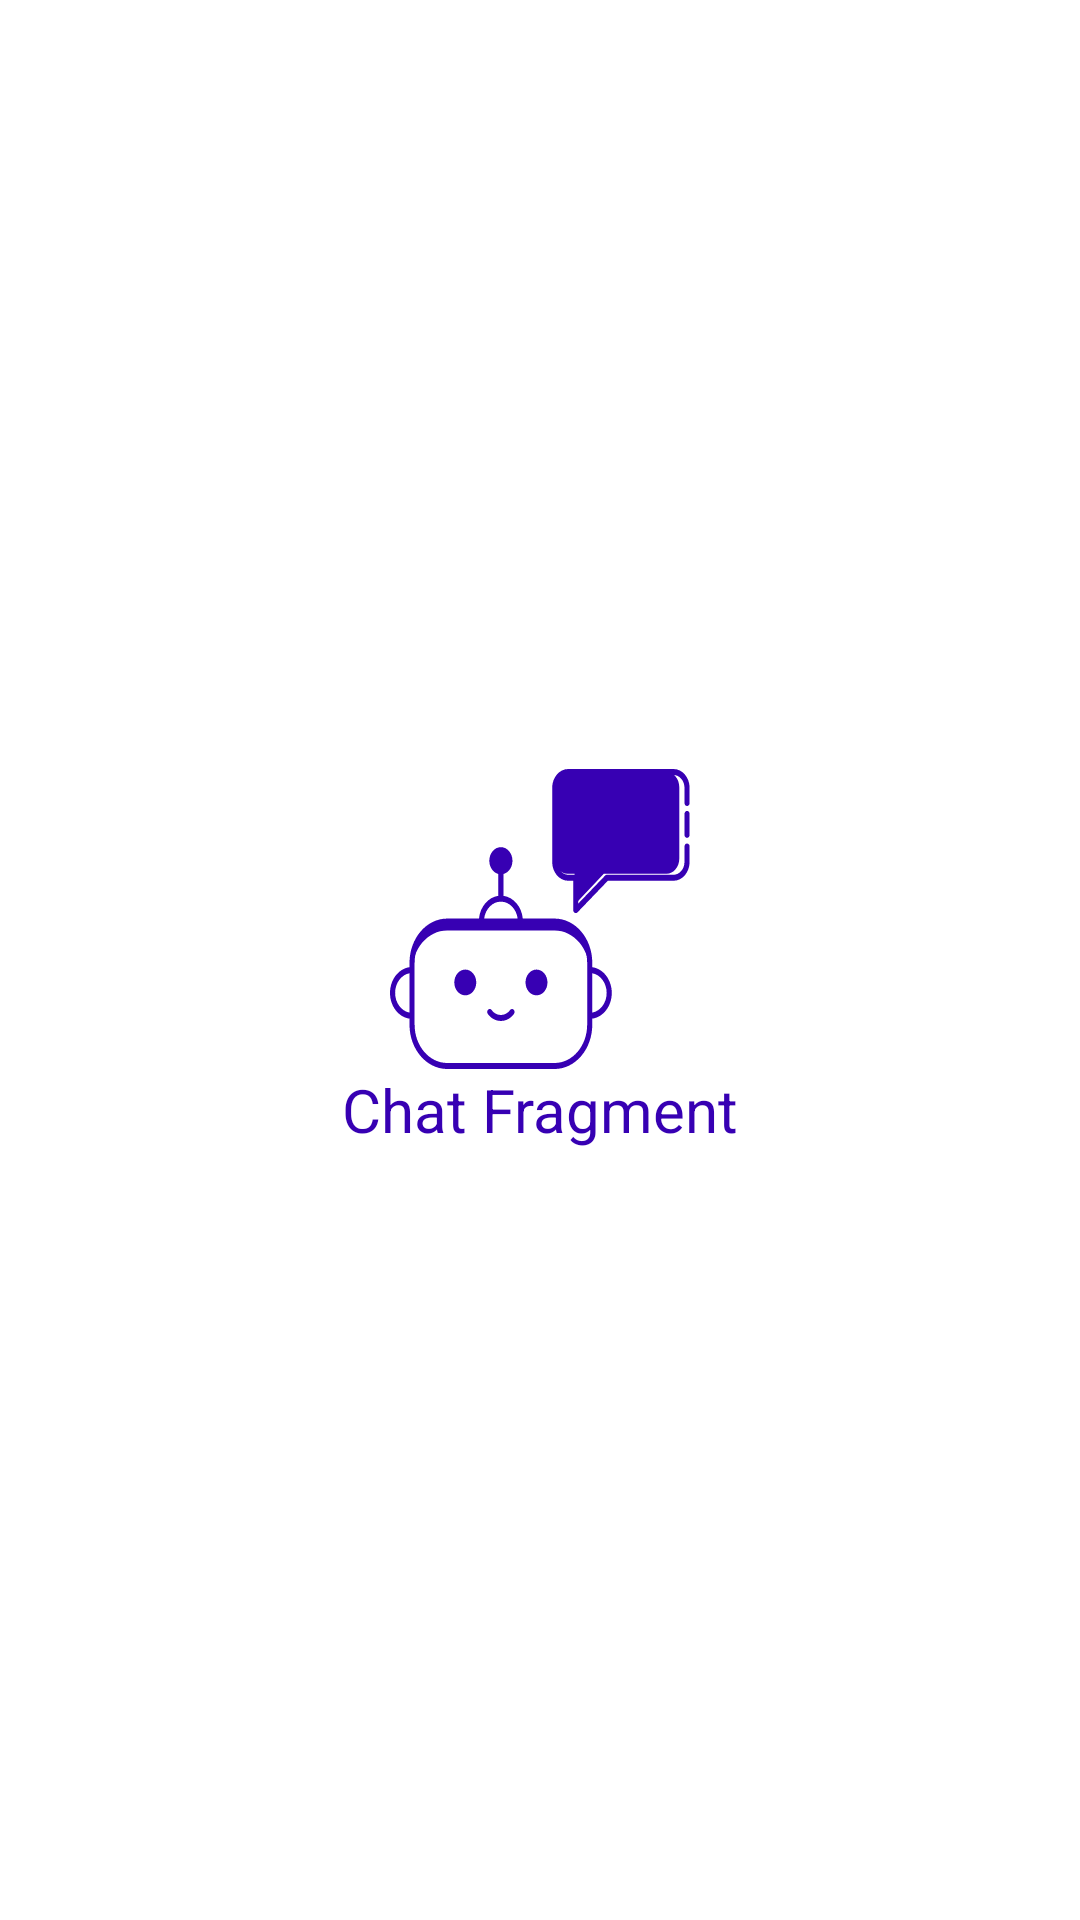

Named icons in this screenshot (1080*1920) and their centers, (x=x, y=y):
momsbot: (x=540, y=919)
